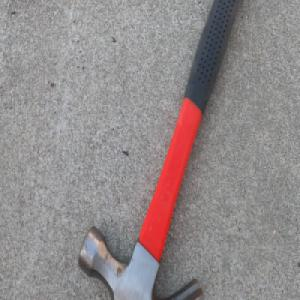Hammer: (77, 0, 243, 300)
